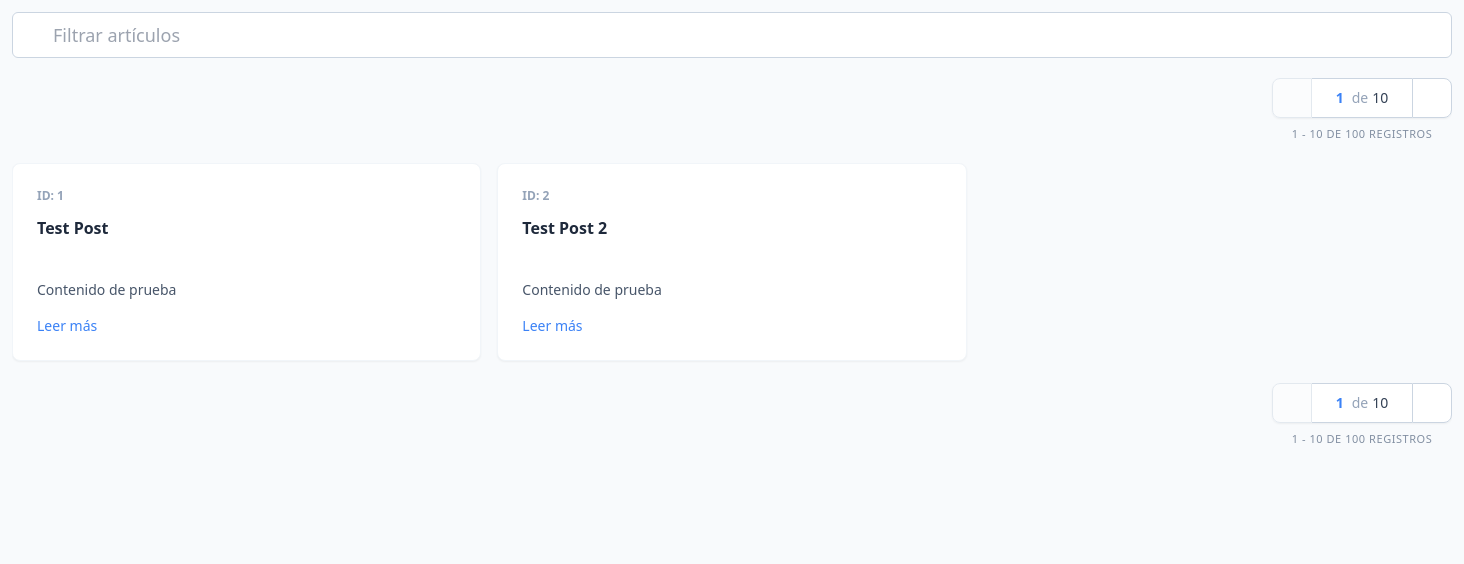
Test case: ArticlesList - Integración › Casos Especiales › debería mostrar el mensaje de 'No encontramos nada' si el filtro no coincide
This screenshot has width=1464, height=564.
Step 1. Type "Busqueda sin resultado" into the search field with test id "search-input" → (732, 35), box 12,12 -> 1452,58
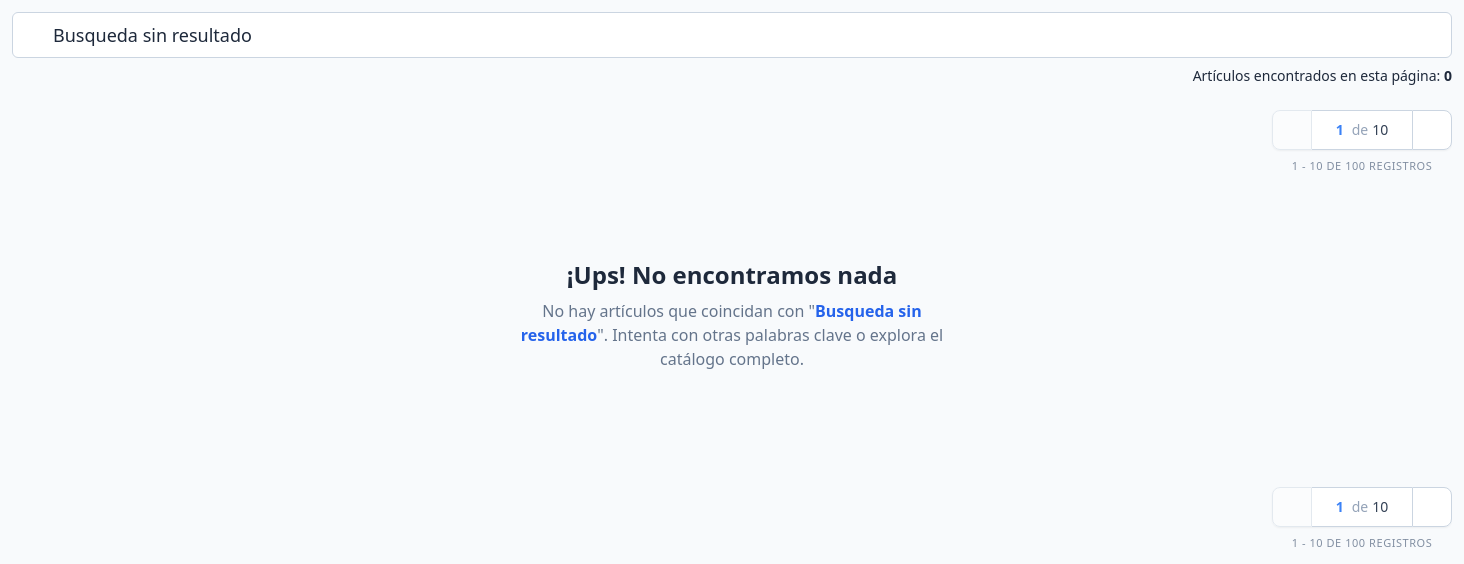
Now the text "¡Ups! No encontramos nada" is shown, box 567,258 -> 897,290
Now no buttons with test id "article-card" are shown
